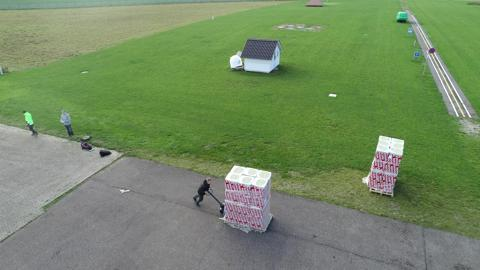RockwoolPallet: (226, 163, 274, 233)
